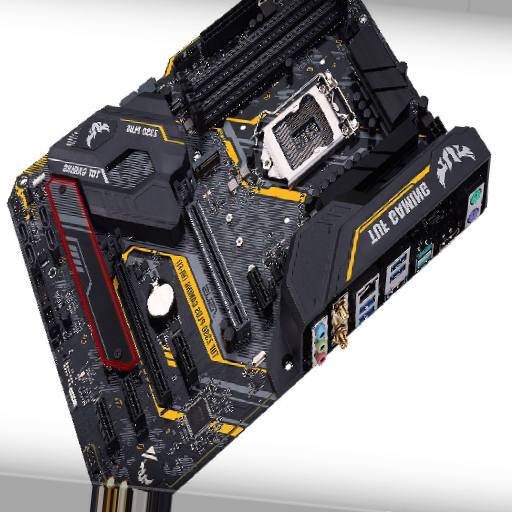CPU: (261, 71, 363, 178)
GPU: (172, 168, 251, 343), (98, 226, 171, 406)
MOTHERBOARD: (8, 1, 483, 482)
RAM: (175, 1, 347, 133)
SSD: (192, 148, 220, 178)
